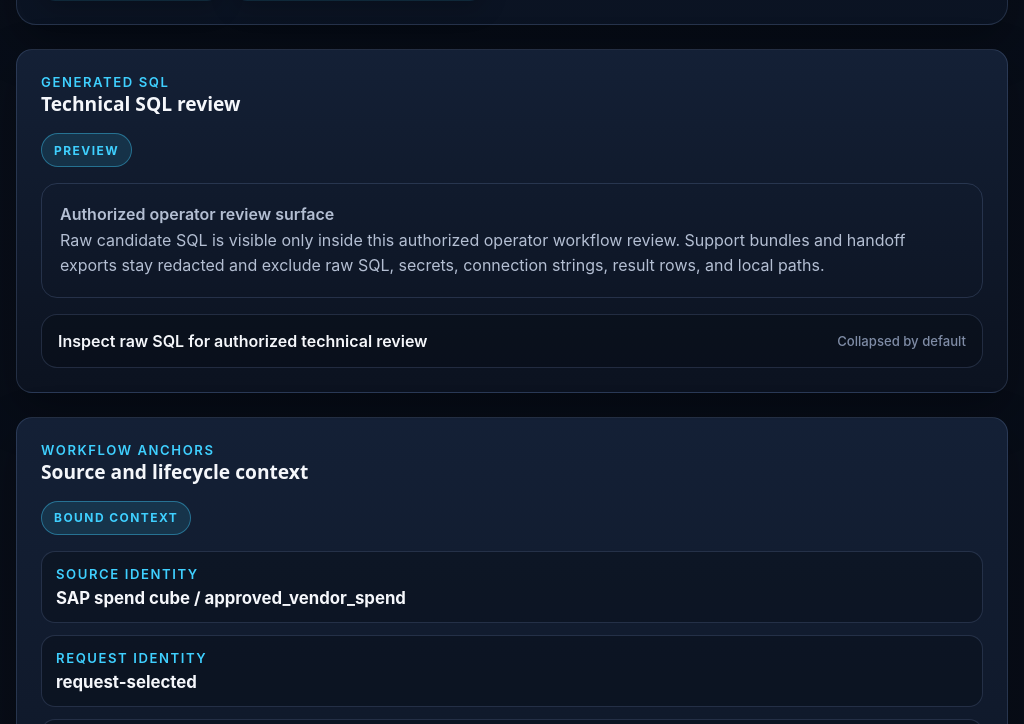
Test: HomePage › presents reopened candidate previews as a business-readable answer plan before SQL
The image size is (1024, 724).
(page scrolled)
Expected: the heading "Technical SQL review" is shown, left=41, top=90, right=240, bottom=117
Expected: the text "select vendor_name from approved_vendor_spend" is not shown
What coordinates should you click on to do the following:
click the text "Inspect raw SQL for authorized technical review"
I would click on:
 (243, 341)
Its box is left=58, top=331, right=428, bottom=351.
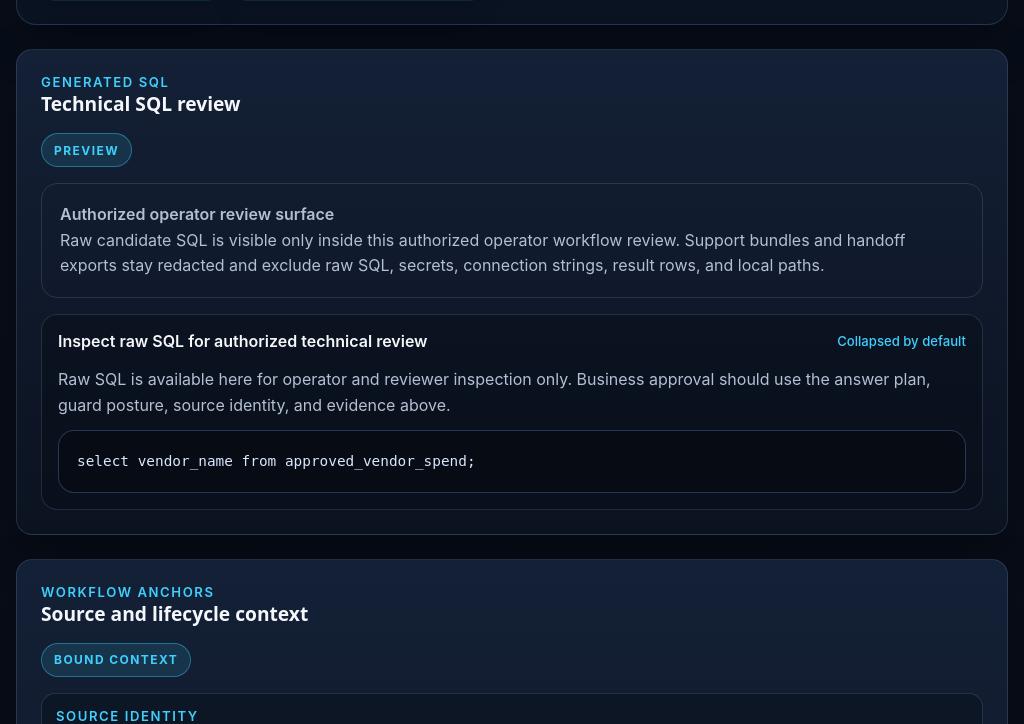
Now the text "select vendor_name from approved_vendor_spend;" is shown, box left=77, top=453, right=476, bottom=469
Now the element named "authorized technical sql details" shows "business approval should use the answer plan, guard posture, source identity, and evidence", box left=58, top=369, right=930, bottom=415
